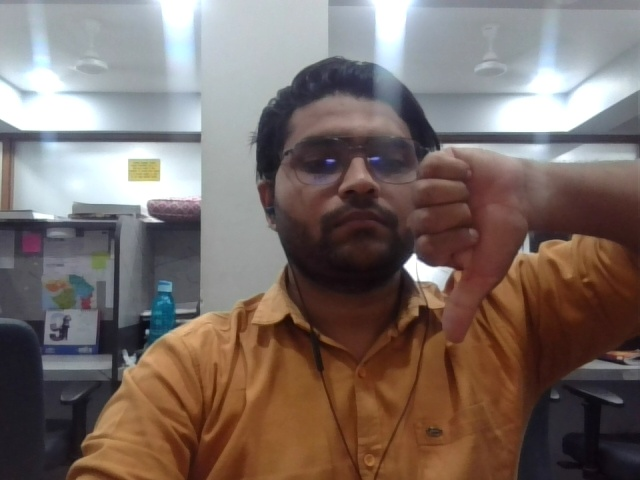ThumbsDown: (419, 146, 529, 347)
